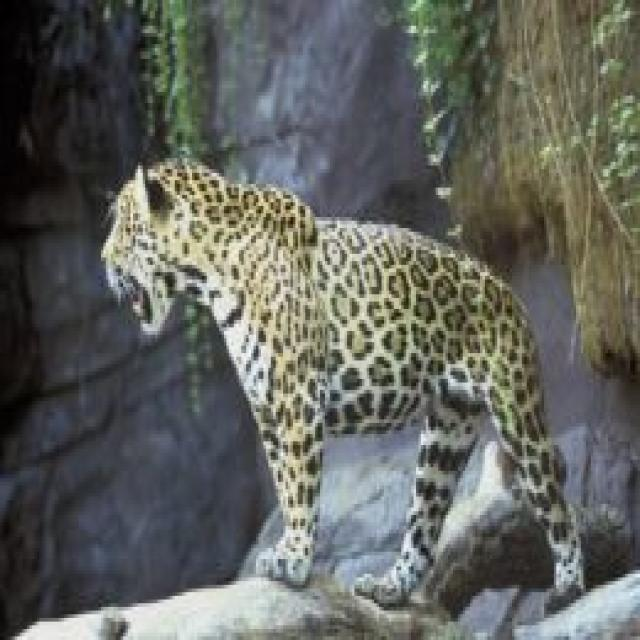Leopard: (98, 154, 586, 607)
